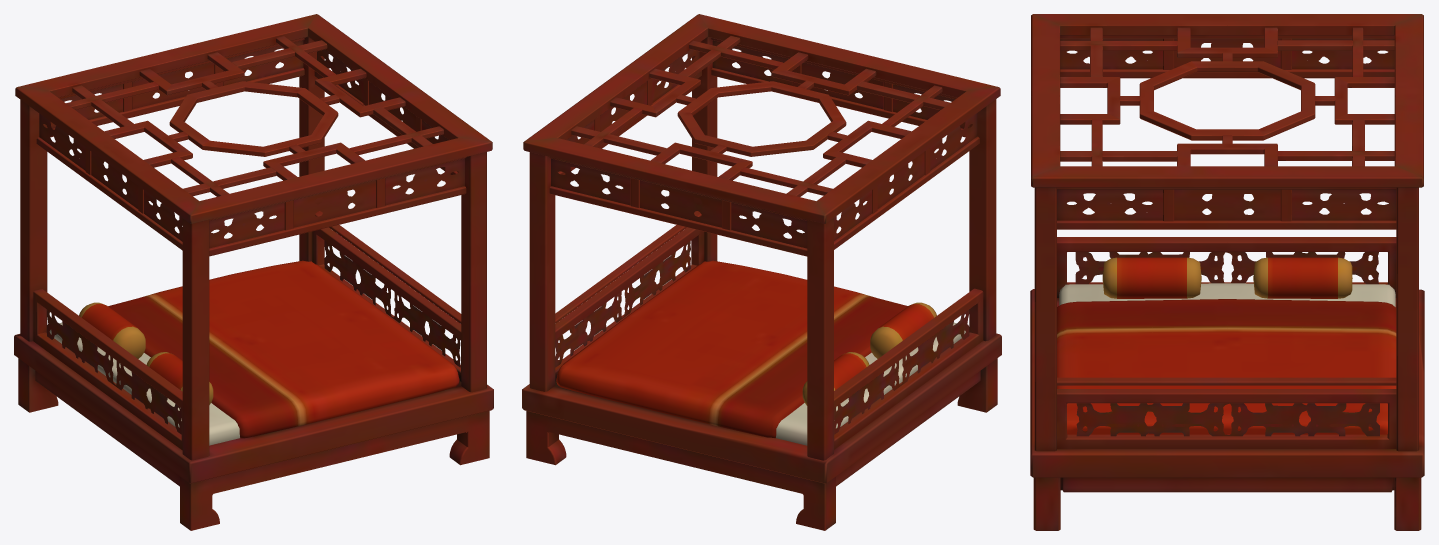
3 renders of one model, left to right at view 1: azimuth 30°, elevation 25°; view 2: azimuth 150°, elevation 25°; view 3: azimuth 270°, elevation 25°, orthographic. The views are drawn at different scales.
Bounding box in the file's own units: 19.96 × 19.84 × 20.
Materials: 1 (1 with a texture image).
